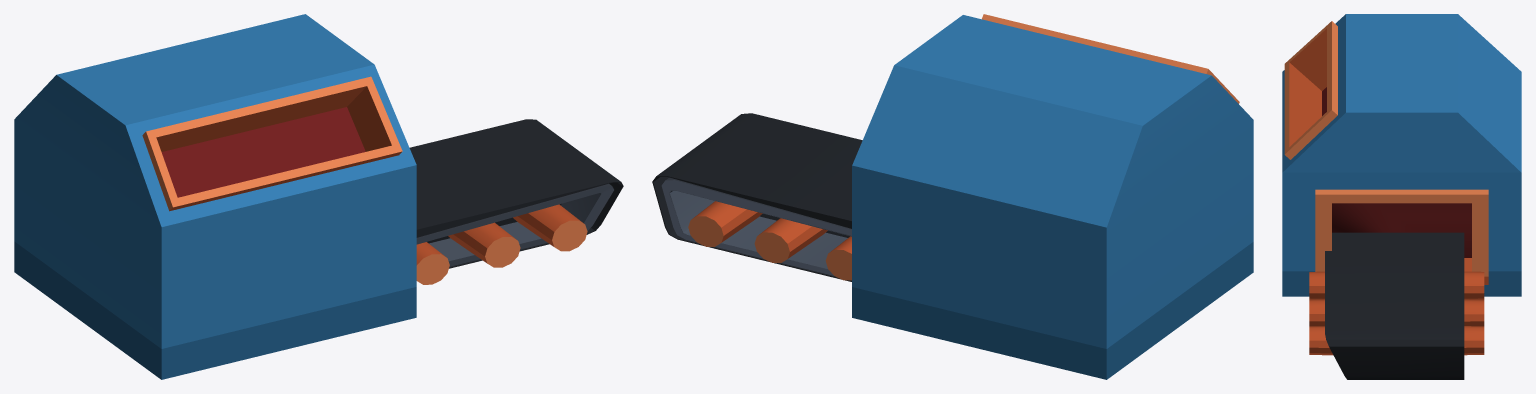
Rendered from Reciclador_AZUL.fbx.
3 views of the same model, side by side, from view 1: azimuth 30°, elevation 25°; view 2: azimuth 150°, elevation 25°; view 3: azimuth 270°, elevation 25° (orthographic). The views are drawn at different scales.
Visible parts, largest first — view 1: Cube.009; view 2: Cube.009; view 3: Cube.009.
Boxes of the visible parts, x1,y1,x2,y2 form: Cube.009: [14, 14, 623, 379]; Cube.009: [652, 14, 1253, 379]; Cube.009: [1282, 14, 1521, 379].
Bounding box in the file's own units: 722 × 317 × 375.
Materials: 1 (1 with a texture image).
